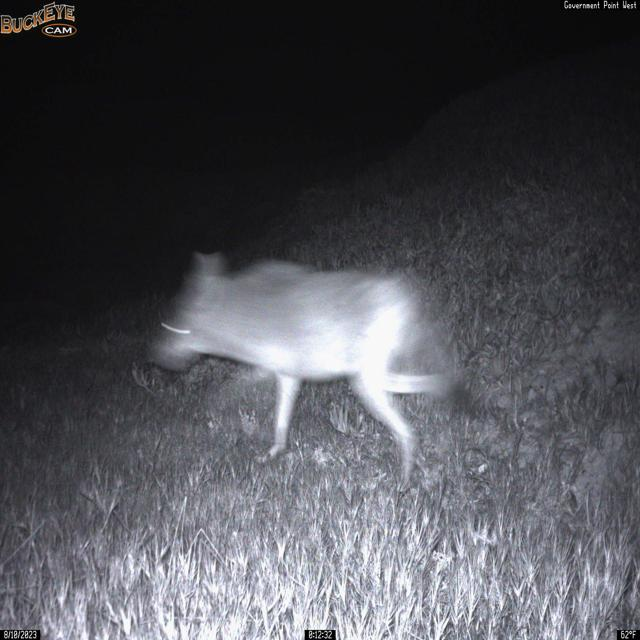coyote: (148, 247, 471, 495)
